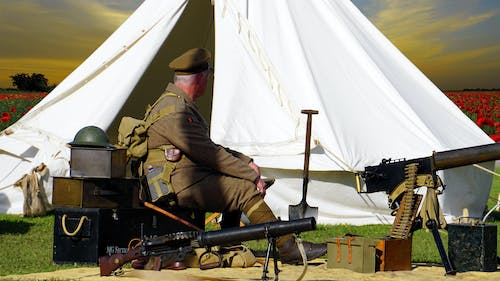gun: (96, 216, 318, 281), (353, 143, 500, 194)
